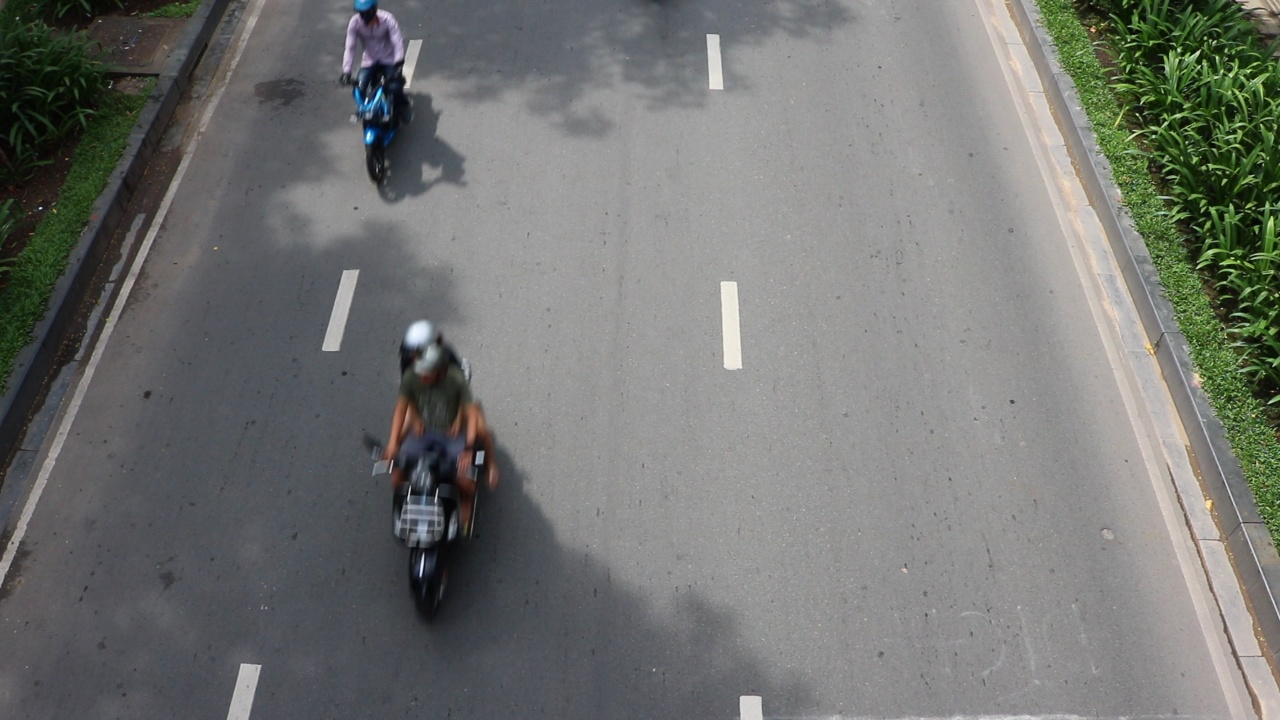motorcycle: (364, 428, 488, 619), (341, 61, 418, 186)
